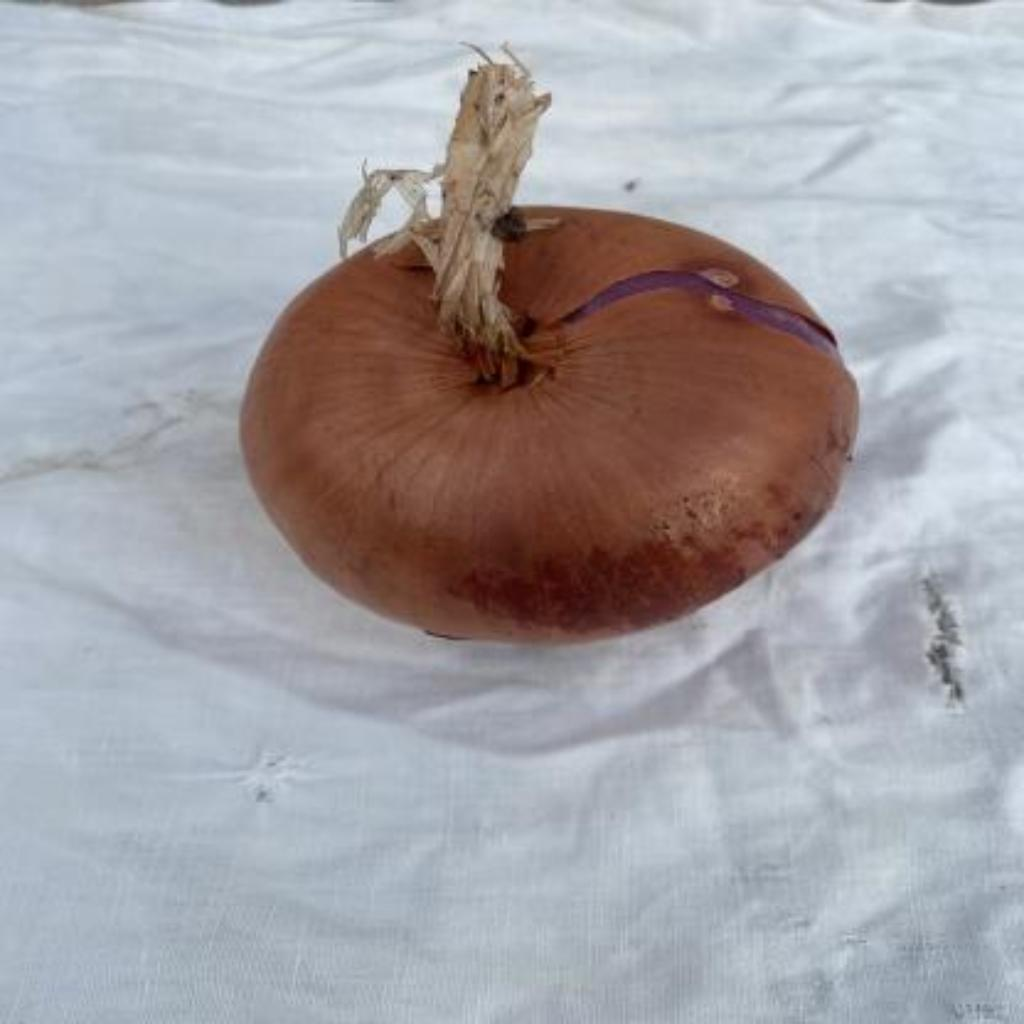Onion: (241, 59, 859, 641)
